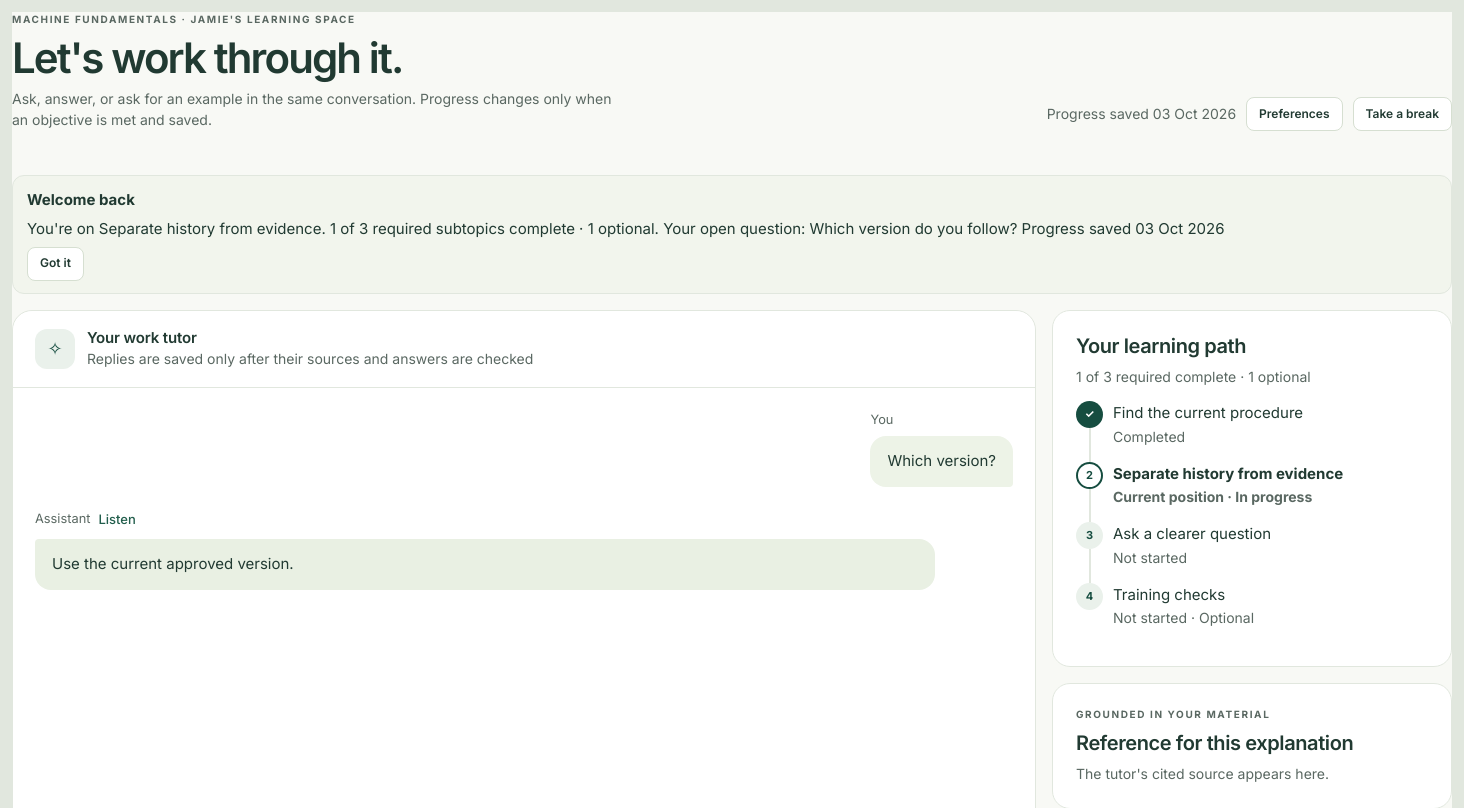
onboarding session voice and flow polish (API mode) › welcomes a returning learner from saved data, and can be dismissed
Check: the text "Use the current approved version." is shown, box [52,554,294,573]
Check: the text "Welcome back" shows "You're on Separate history from evidence.", box [27,219,326,238]
Click the button "Got it".
click(55, 264)  # box [27,247,84,281]
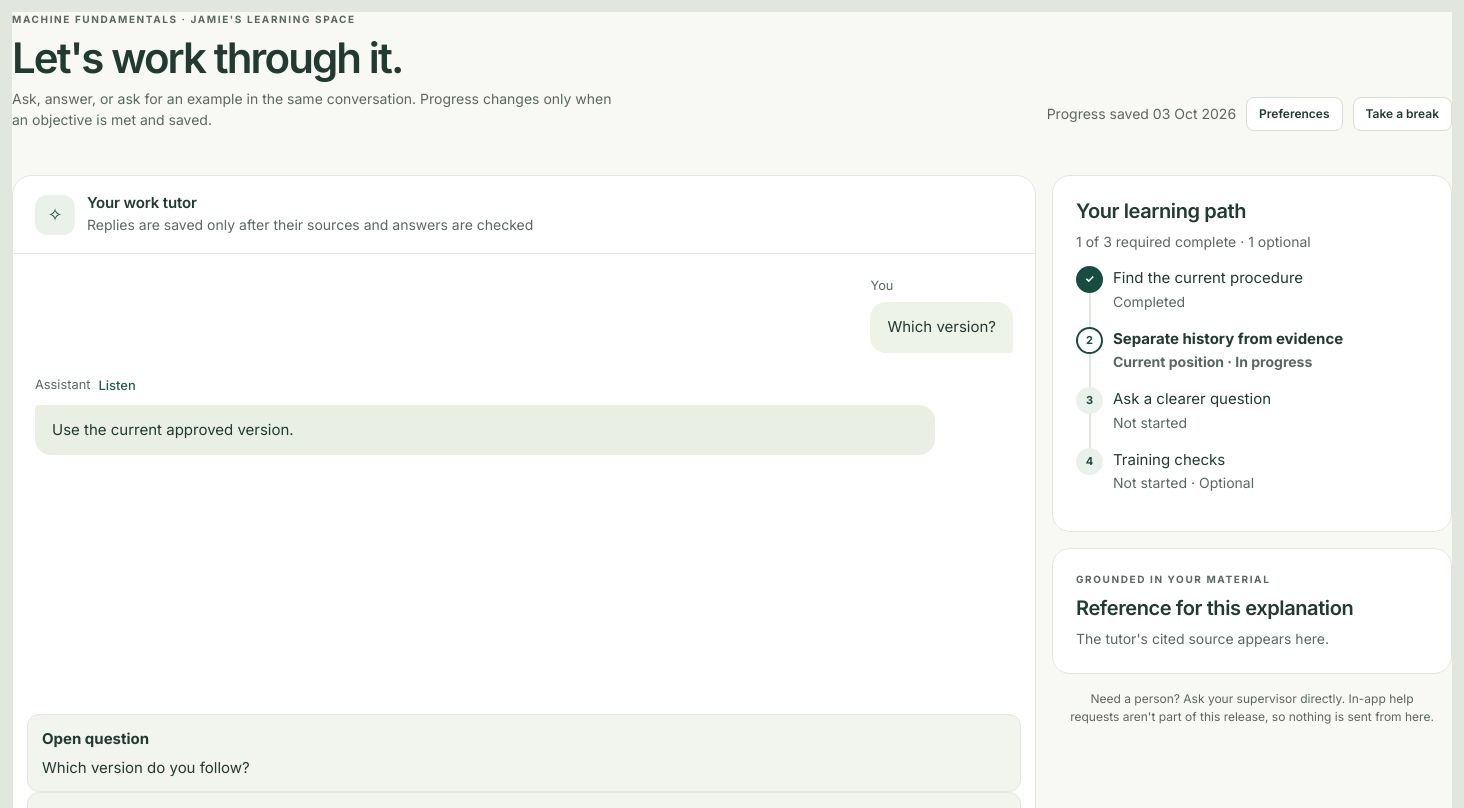
Check: the text "Welcome back" is gone
